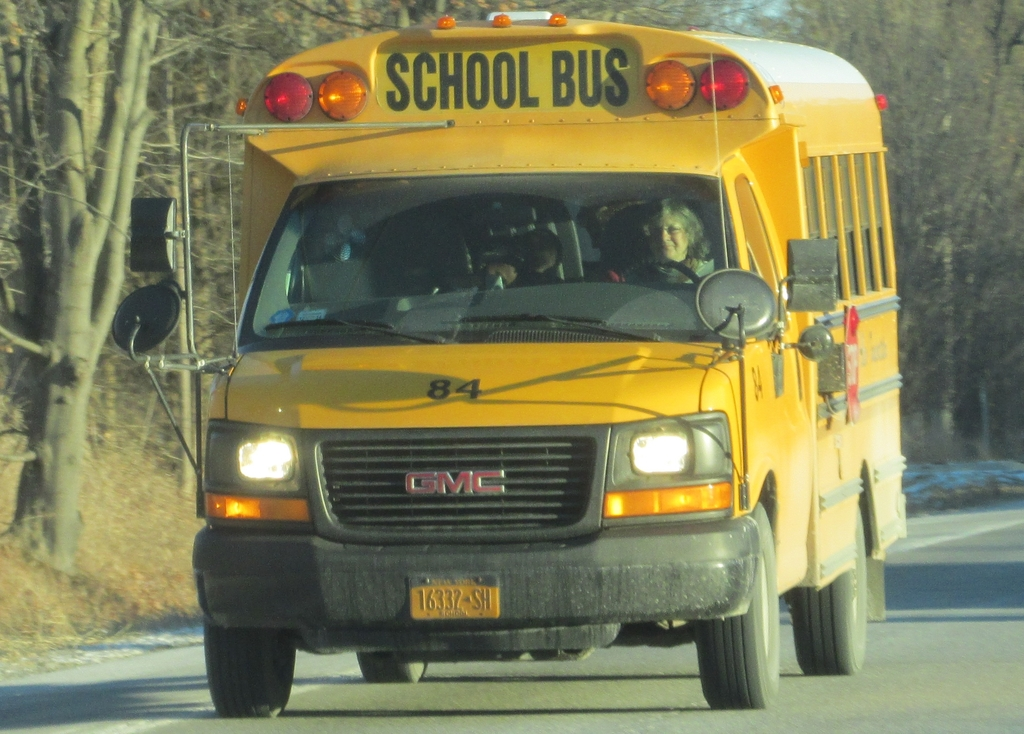Bus: (108, 9, 910, 719)
